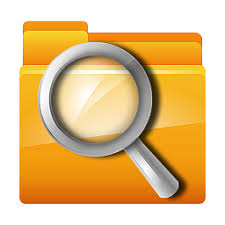searchIcon: (32, 39, 183, 201)
